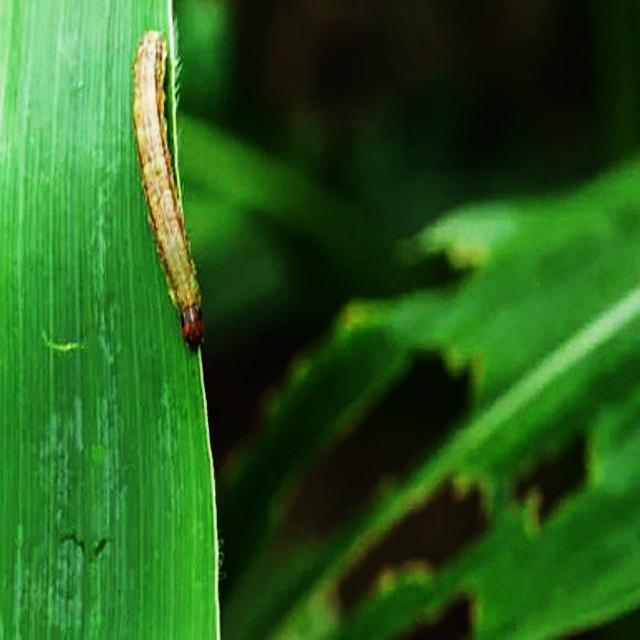gusano_cogollero: (132, 26, 208, 348)
